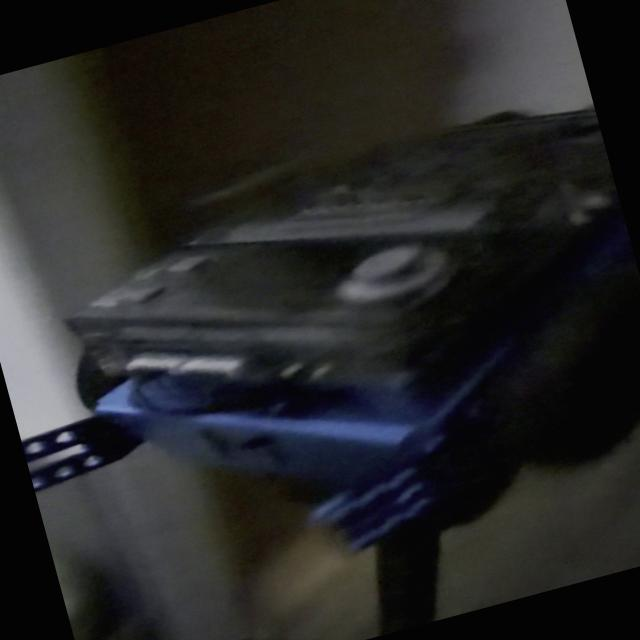mbot-detection: (0, 67, 640, 636)
